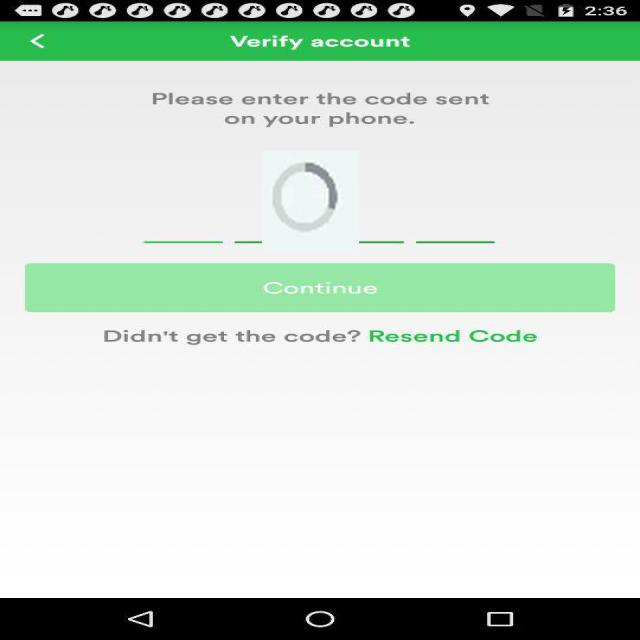misdirection: (262, 151, 359, 253)
